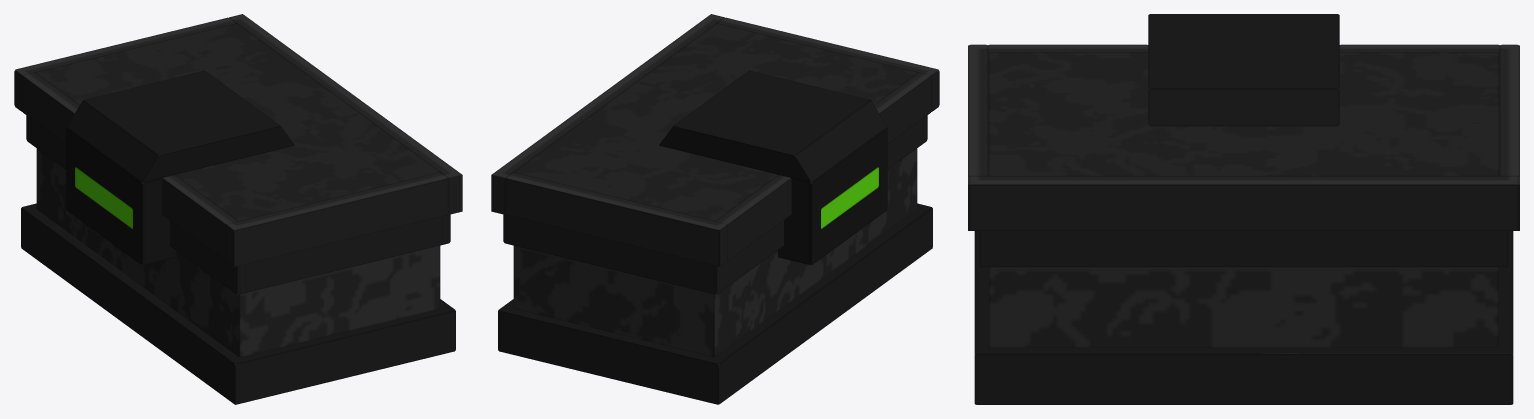
File: chest.fbx
3 renders of one model, left to right at view 1: azimuth 30°, elevation 25°; view 2: azimuth 150°, elevation 25°; view 3: azimuth 270°, elevation 25°, orthographic. The views are drawn at different scales.
Parts seen in each view (by area): view 1: cuboid_3, cuboid_1, cuboid, cuboid_2, cube_7, cube_5, cube_9, cube_2, cube, cube_11, cube_3, cube_12 (+2 smaller); view 2: cuboid_3, cuboid_1, cuboid, cuboid_2, cube_12, cube_5, cube_8, cube_3, cube, cube_11, cube_2, cube_7 (+2 smaller); view 3: cuboid_3, cuboid_1, cuboid, cube, cuboid_2, cube_10, cube_7, cube_12, cube_2, cube_3.
Boxes of the visible parts, x1,y1,x2,y2 form: cuboid_3: (36, 23, 439, 225); cuboid_1: (36, 148, 440, 357); cuboid: (21, 203, 455, 404); cuboid_2: (67, 70, 294, 182); cube_7: (226, 172, 448, 266); cube_5: (66, 128, 175, 264); cube_9: (239, 215, 447, 293); cube_2: (162, 175, 238, 260); cube: (230, 14, 460, 178); cube_11: (26, 115, 240, 294); cube_3: (22, 72, 79, 143); cube_12: (14, 17, 235, 111); cuboid_3: (513, 23, 917, 225); cuboid_1: (513, 148, 917, 357); cuboid: (498, 203, 932, 404); cuboid_2: (659, 70, 886, 182); cube_12: (505, 172, 727, 266); cube_5: (778, 128, 887, 264); cube_8: (506, 215, 714, 293); cube_3: (715, 175, 791, 260); cube: (493, 14, 723, 178); cube_11: (713, 115, 927, 294); cube_2: (874, 72, 931, 143); cube_7: (718, 17, 939, 111); cuboid_3: (988, 52, 1499, 176); cuboid_1: (989, 267, 1498, 347); cuboid: (974, 231, 1513, 404); cube: (969, 176, 1518, 230); cuboid_2: (1148, 14, 1339, 126); cube_10: (979, 231, 1508, 267); cube_7: (968, 44, 988, 176); cube_12: (1499, 44, 1519, 176); cube_2: (987, 44, 1148, 52); cube_3: (1339, 44, 1500, 52).
Size of the model in its own units: 124 by 95.32 by 190.
1 material, 1 textured.
